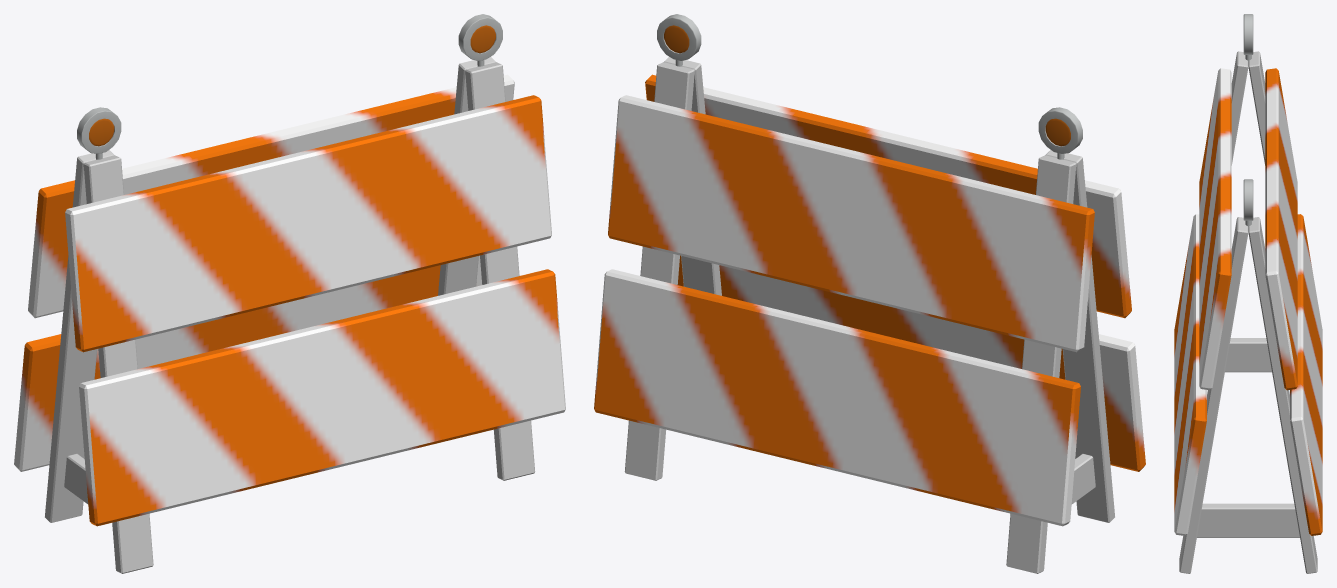
Rendered from streetBarrier.glb.
3 views of the same model, side by side, from view 1: azimuth 30°, elevation 25°; view 2: azimuth 150°, elevation 25°; view 3: azimuth 270°, elevation 25° (orthographic). The views are drawn at different scales.
Parts seen in each view (by area): view 1: SM_StreetBarrier; view 2: SM_StreetBarrier; view 3: SM_StreetBarrier.
Part boxes in pixels (<box>): SM_StreetBarrier: <box>14,14,565,573</box>; SM_StreetBarrier: <box>594,14,1145,573</box>; SM_StreetBarrier: <box>1174,14,1322,573</box>.
Size of the model in its own units: 1.21 by 1.07 by 0.3717.
Materials: 1 (1 with a texture image).
